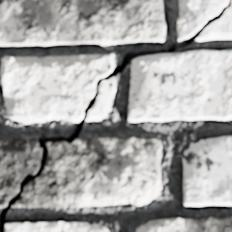brick: (0, 0, 164, 46), (127, 51, 231, 122), (182, 136, 231, 206), (135, 217, 231, 231), (5, 222, 108, 231)
broken_brick: (11, 138, 162, 208), (0, 55, 112, 124), (0, 140, 41, 208), (176, 0, 227, 42), (194, 0, 231, 42), (85, 78, 114, 122)
crack: (0, 0, 230, 231)
